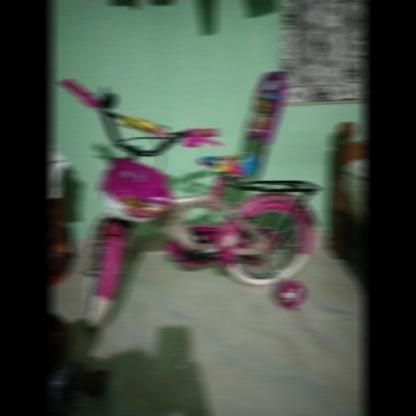Bicycle: (45, 14, 336, 344)
